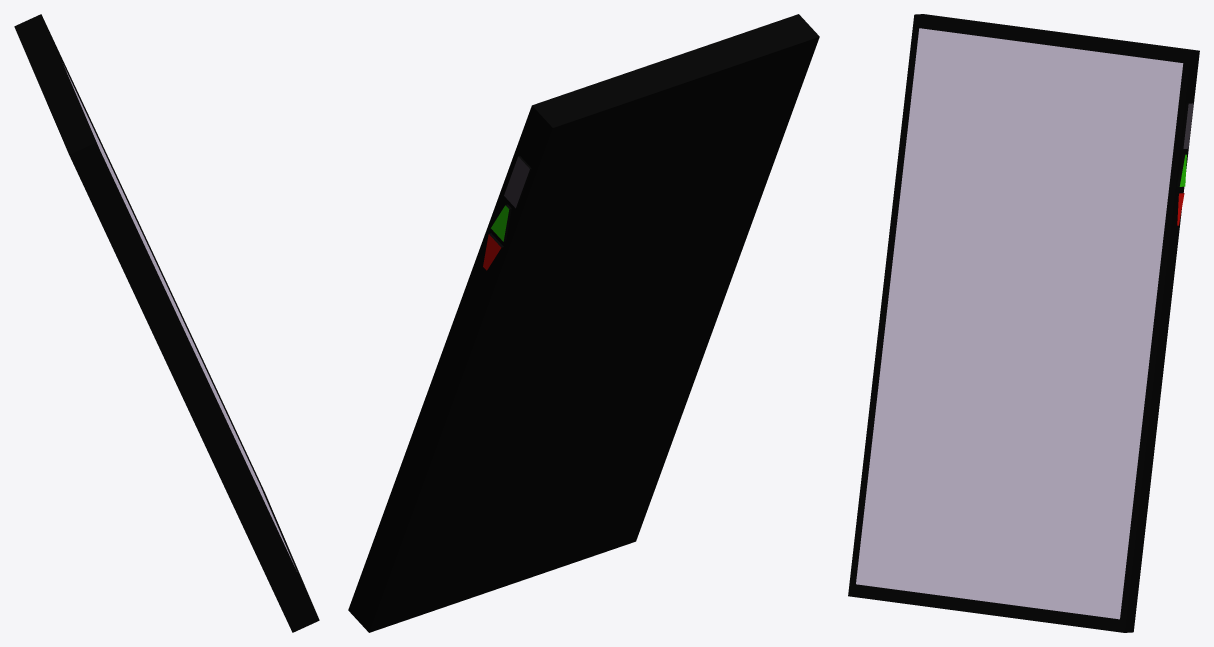
The model's file is object_low_poly_modern_phone.dae.
3 renders of one model, left to right at view 1: azimuth 30°, elevation 25°; view 2: azimuth 150°, elevation 25°; view 3: azimuth 270°, elevation 25°, orthographic. The views are drawn at different scales.
Visible parts, largest first — view 1: Plane; view 2: Plane; view 3: Plane.
Part boxes in pixels (left/top/right/bottom): Plane: left=14, top=14, right=319, bottom=632; Plane: left=348, top=14, right=819, bottom=632; Plane: left=848, top=14, right=1199, bottom=632.
Bounding box in the file's own units: 1.15 × 1.2 × 1.9.
